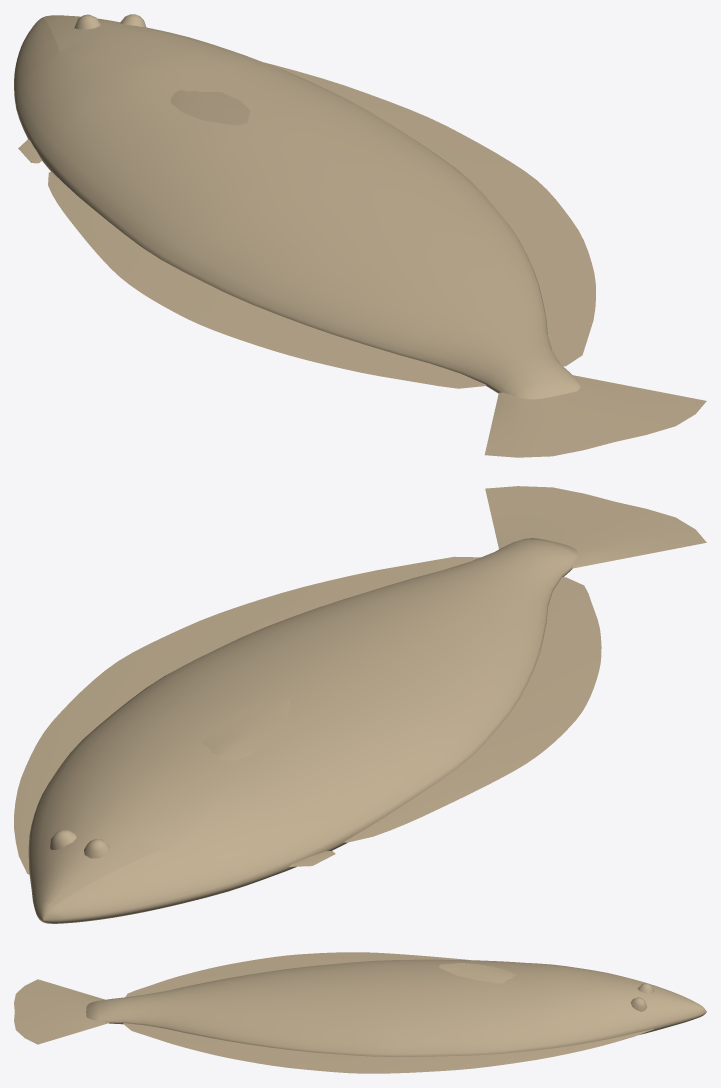
Rendered from california_halibut_lo.glb.
The picture shows the model from 3 angles, top to bottom: view 1: azimuth 30°, elevation 25°; view 2: azimuth 150°, elevation 25°; view 3: azimuth 270°, elevation 25°; orthographic projection. The views are drawn at different scales.
Parts seen in each view (by area): view 1: california_halibut_lo; view 2: california_halibut_lo; view 3: california_halibut_lo.
Part boxes in pixels (bbox=[...]): california_halibut_lo: bbox=[14, 14, 706, 457]; california_halibut_lo: bbox=[14, 486, 706, 923]; california_halibut_lo: bbox=[14, 952, 706, 1073].
Bounding box in the file's own units: 0.4149 × 0.0837 × 0.9996.
